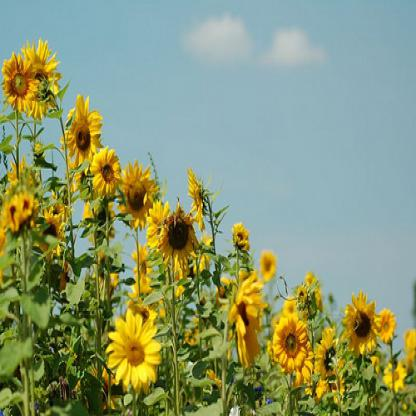SUN FLOWER: (4, 18, 412, 405)
